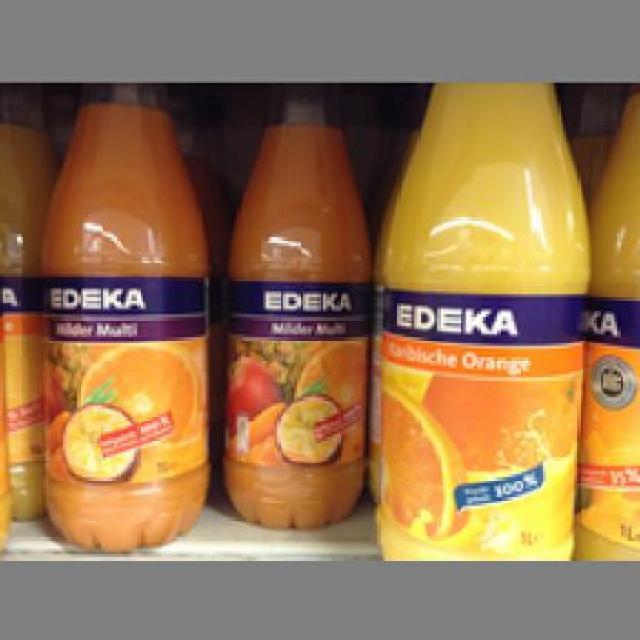Juice: (374, 77, 586, 554), (34, 82, 210, 548), (219, 83, 372, 523)
